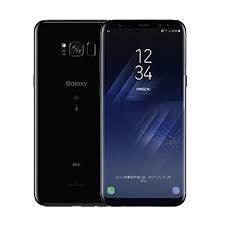samsung: (99, 18, 187, 207), (34, 16, 98, 206)
